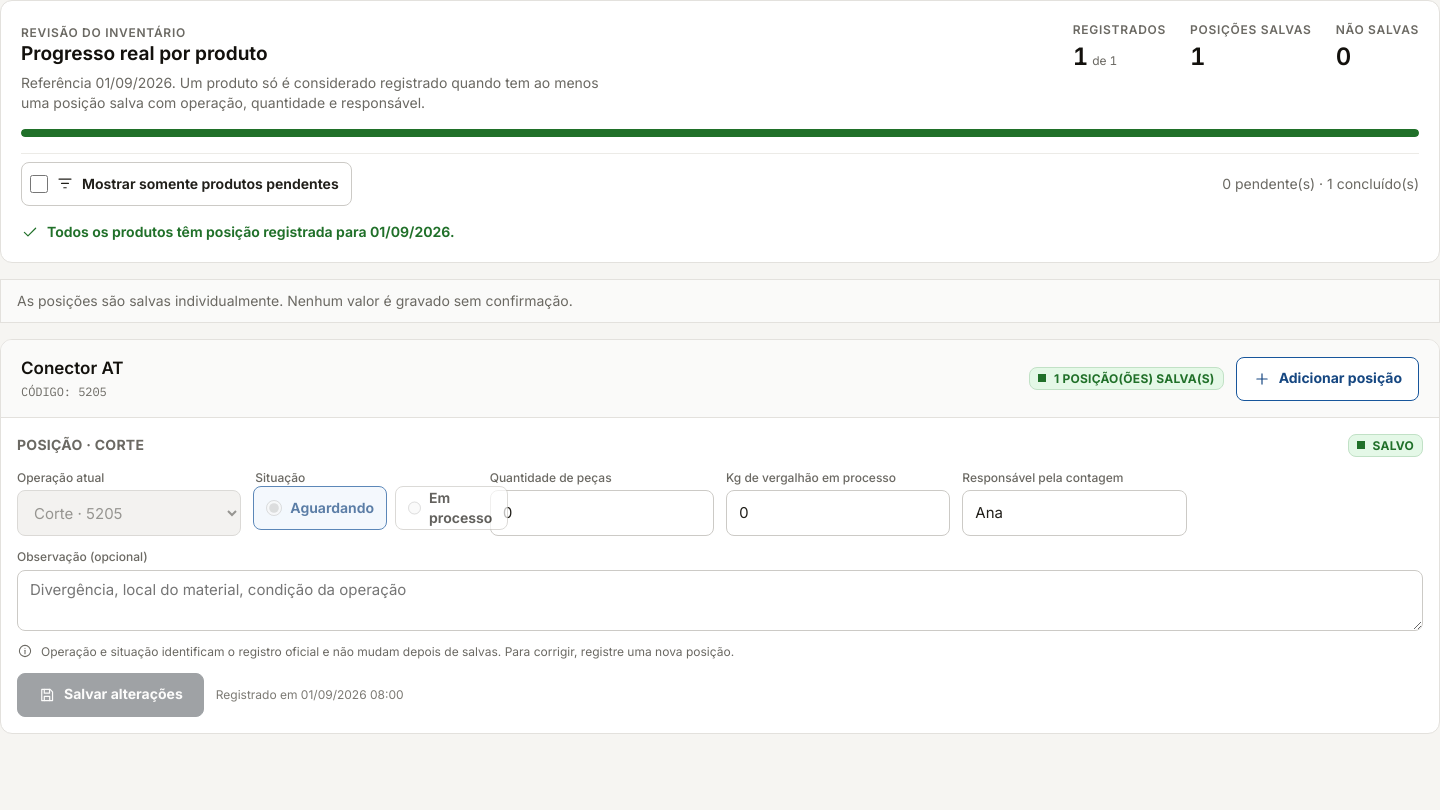
it: inventário de abertura › filtra somente os produtos pendentes
Expected: the text "Todos os produtos têm posição registrada para 01/09/2026." is shown, [21,223,454,241]
Click the checkbox labelled "Mostrar somente produtos pendentes" at (39, 184), box [30,175,48,193]
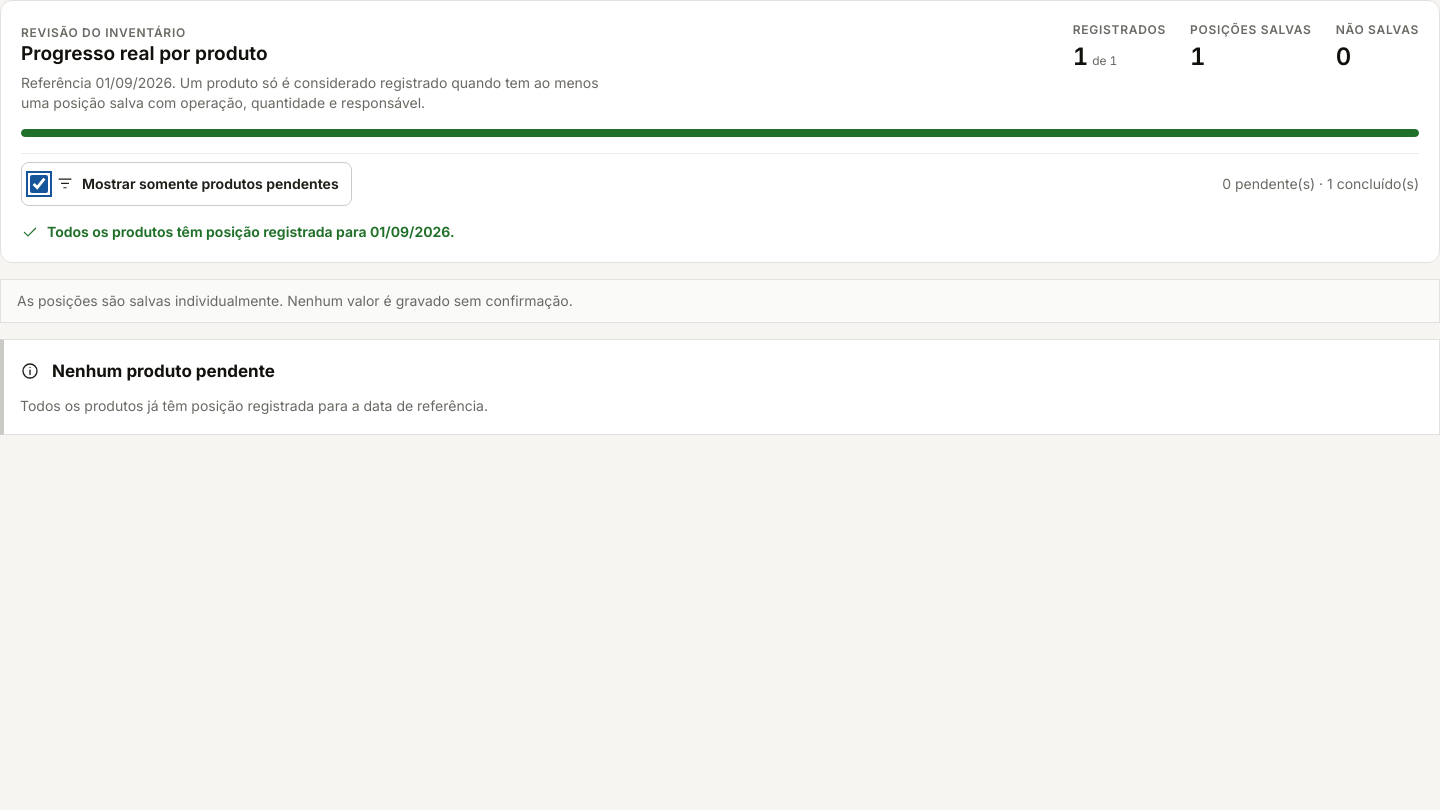
Expected: the text "Nenhum produto pendente" is shown, [52,359,275,384]
